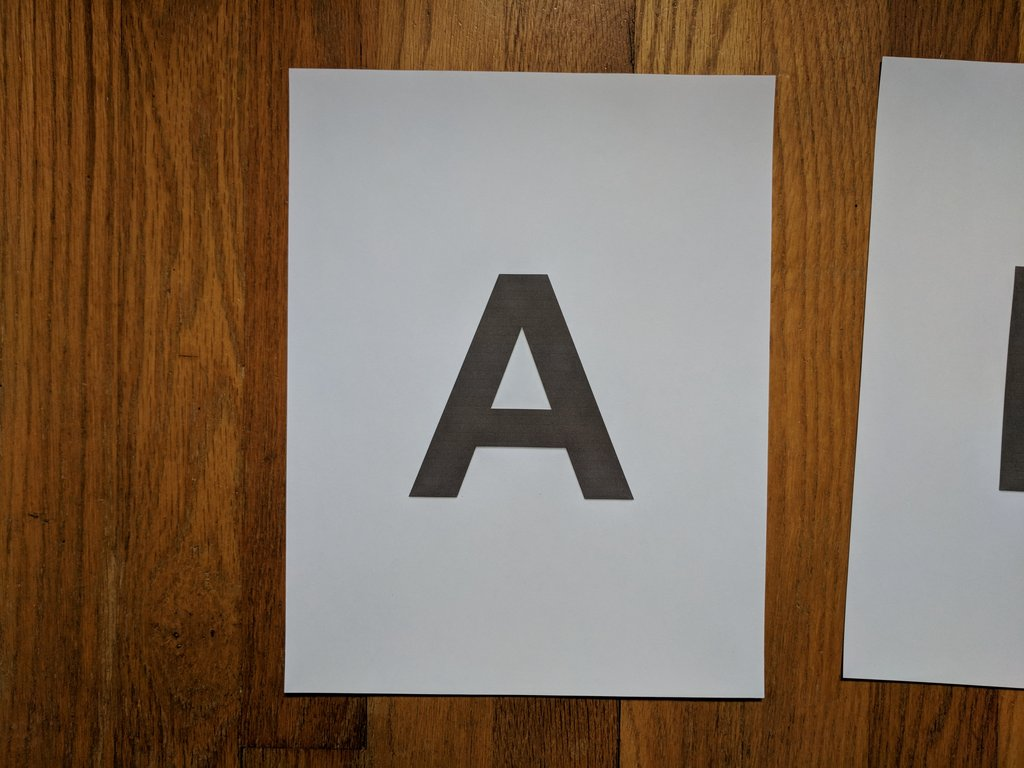home: (409, 272, 635, 501)
